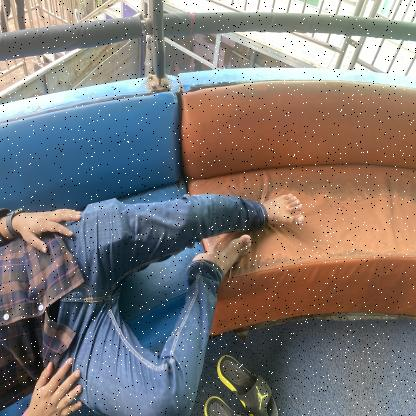hand: (0, 182, 84, 259), (10, 340, 85, 416)
leg: (157, 233, 260, 338), (201, 164, 313, 230)
